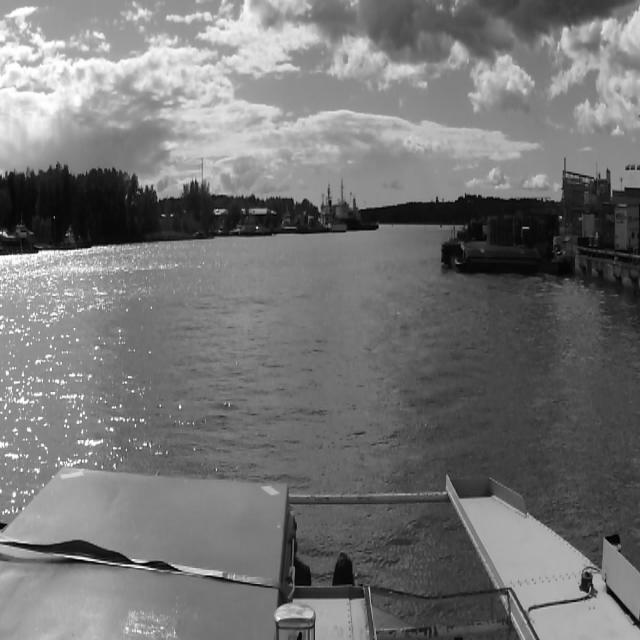ship: (346, 192, 379, 230), (321, 183, 346, 233)
